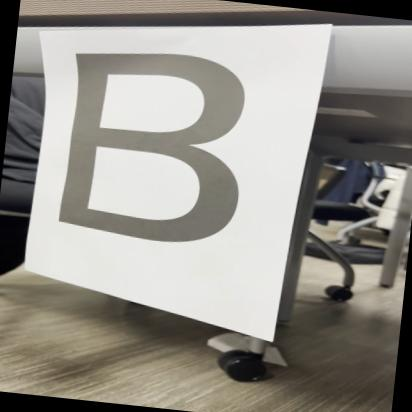seat: (34, 31, 298, 262)
